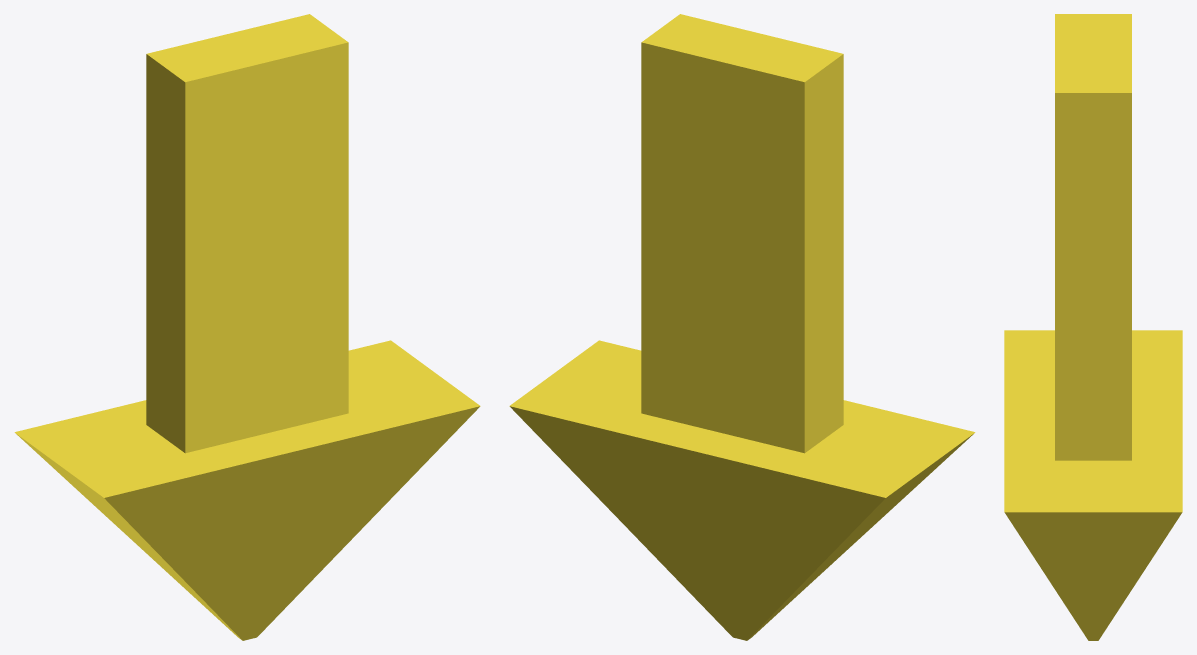
The model's file is Arrow.gltf.
3 renders of one model, left to right at view 1: azimuth 30°, elevation 25°; view 2: azimuth 150°, elevation 25°; view 3: azimuth 270°, elevation 25°, orthographic.
Visible parts, largest first — view 1: Cube; view 2: Cube; view 3: Cube.
Boxes of the visible parts, x1=… form: Cube: x1=14, y1=14, x2=480, y2=640; Cube: x1=509, y1=14, x2=975, y2=640; Cube: x1=1004, y1=14, x2=1182, y2=640.
Size of the model in its own units: 1.9 by 2.85 by 0.7869.
